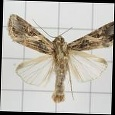Spodoptera litura: (6, 15, 113, 103)
